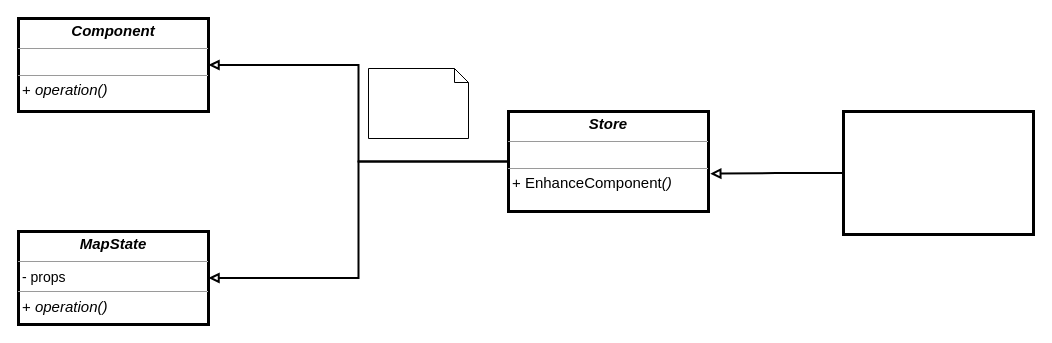
The diagram is 1052 pixels wide and 343 high, and some of its shapes have lost their labels. Here are the shapes that lost their labels. From the top down, the box of each, then its label:
(368, 68, 468, 138): Dependência por chamada de método
(842, 110, 1034, 236): EnhancedComponent + operation() + otherO peration()
